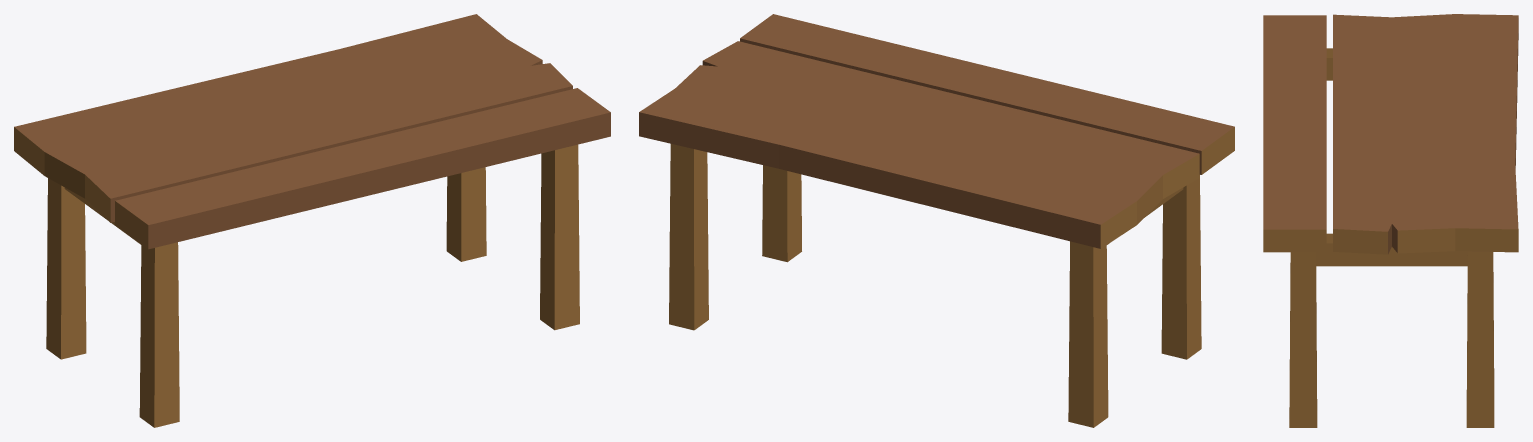
The model's file is sm_arts_crafts_station.gltf.
3 renders of one model, left to right at view 1: azimuth 30°, elevation 25°; view 2: azimuth 150°, elevation 25°; view 3: azimuth 270°, elevation 25°, orthographic. The views are drawn at different scales.
Parts seen in each view (by area): view 1: table-wood; view 2: table-wood; view 3: table-wood.
Part boxes in pixels (x1,y1,x2,y2): table-wood: (14, 14, 610, 427); table-wood: (639, 14, 1234, 427); table-wood: (1263, 14, 1518, 427).
Size of the model in its own units: 2.04 by 0.9 by 1.01.
